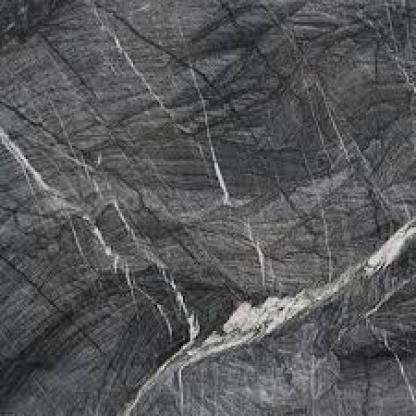Metamorphic_Quartize: (4, 7, 414, 414)
